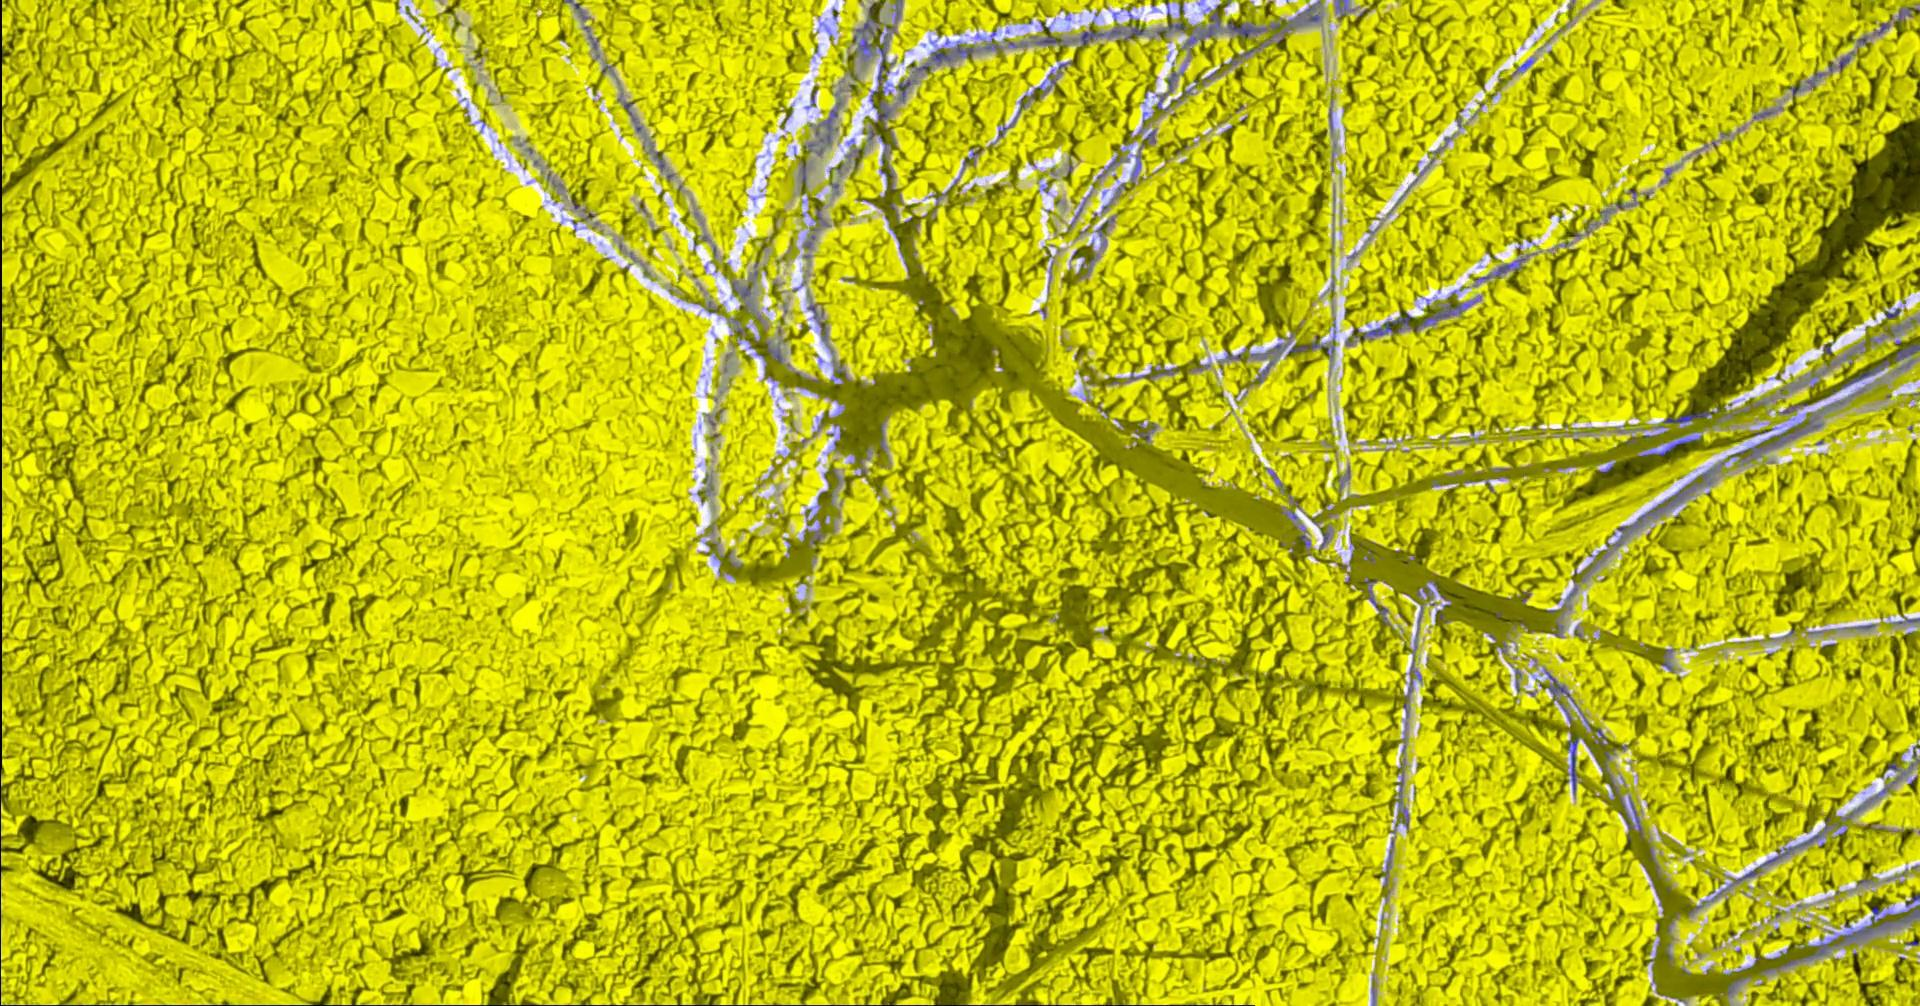ant: (1363, 312, 1411, 338), (1638, 439, 1698, 456), (1288, 337, 1333, 354), (1840, 367, 1876, 387), (1545, 672, 1570, 696), (1567, 735, 1577, 793), (1663, 410, 1710, 422), (1227, 20, 1258, 36), (1431, 304, 1460, 318), (877, 47, 886, 93), (1895, 343, 1919, 359), (1081, 29, 1103, 44), (1870, 906, 1883, 925), (931, 50, 949, 61)
